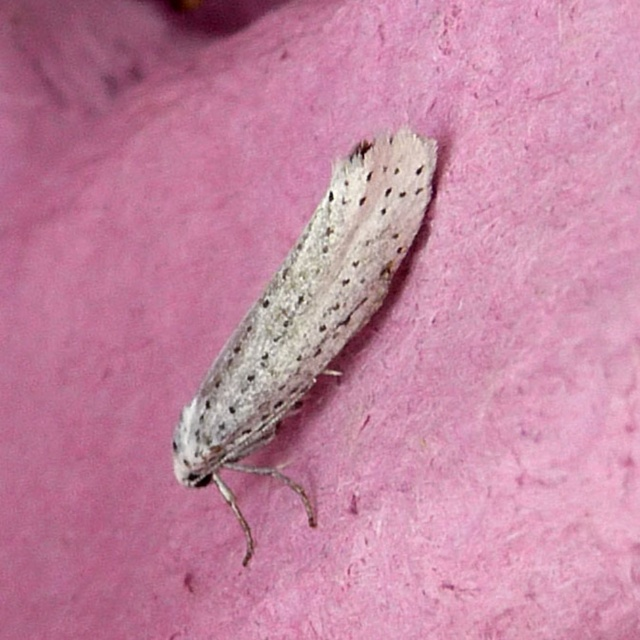Moths and butterflies: (166, 121, 443, 567)
